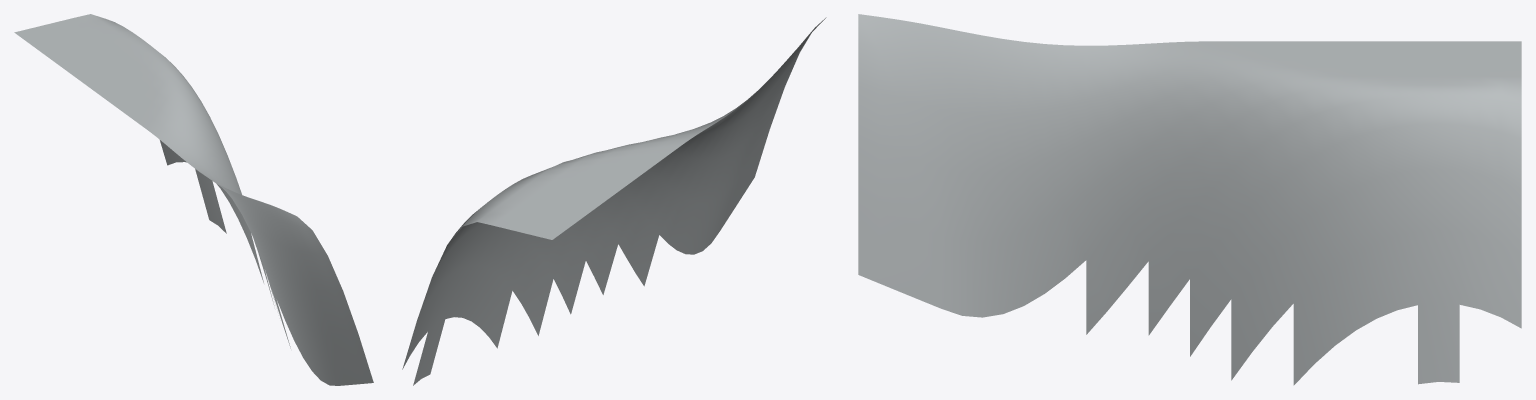
The model's file is alpine-12-3.glb.
3 views of the same model, side by side, from view 1: azimuth 30°, elevation 25°; view 2: azimuth 150°, elevation 25°; view 3: azimuth 270°, elevation 25° (orthographic). The views are drawn at different scales.
Parts seen in each view (by area): view 1: alpine-12-3; view 2: alpine-12-3; view 3: alpine-12-3.
Part boxes in pixels (bbox=[...]): alpine-12-3: bbox=[14, 14, 373, 385]; alpine-12-3: bbox=[402, 17, 826, 385]; alpine-12-3: bbox=[858, 14, 1521, 385].
Bounding box in the file's own units: 88 × 123 × 256.
1 material, 1 textured.
